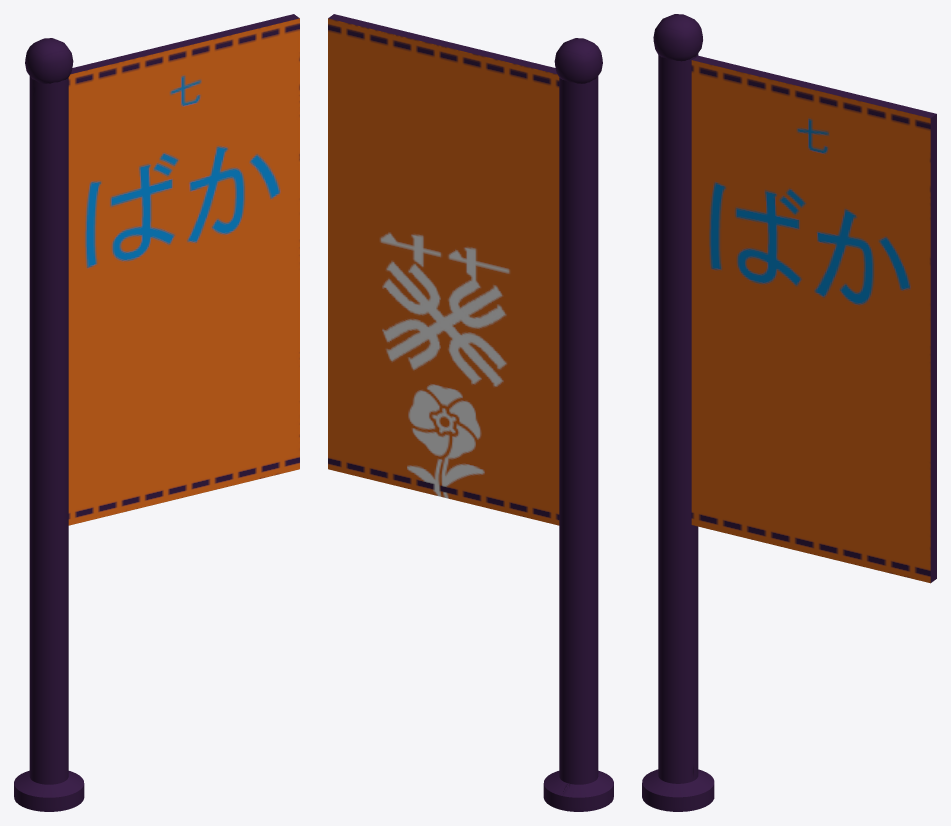
The model's file is flag.fbx.
3 renders of one model, left to right at view 1: azimuth 30°, elevation 25°; view 2: azimuth 150°, elevation 25°; view 3: azimuth 330°, elevation 25°, orthographic. The views are drawn at different scales.
Parts seen in each view (by area): view 1: Flag, Flag Post; view 2: Flag, Flag Post; view 3: Flag, Flag Post.
Boxes of the visible parts, bbox=[...] form: Flag: bbox=[68, 14, 299, 525]; Flag Post: bbox=[14, 38, 84, 811]; Flag: bbox=[328, 14, 559, 525]; Flag Post: bbox=[543, 38, 613, 811]; Flag: bbox=[691, 55, 936, 583]; Flag Post: bbox=[642, 14, 714, 811].
Size of the model in its own units: 159 by 413 by 34.82.
1 material, 1 textured.
